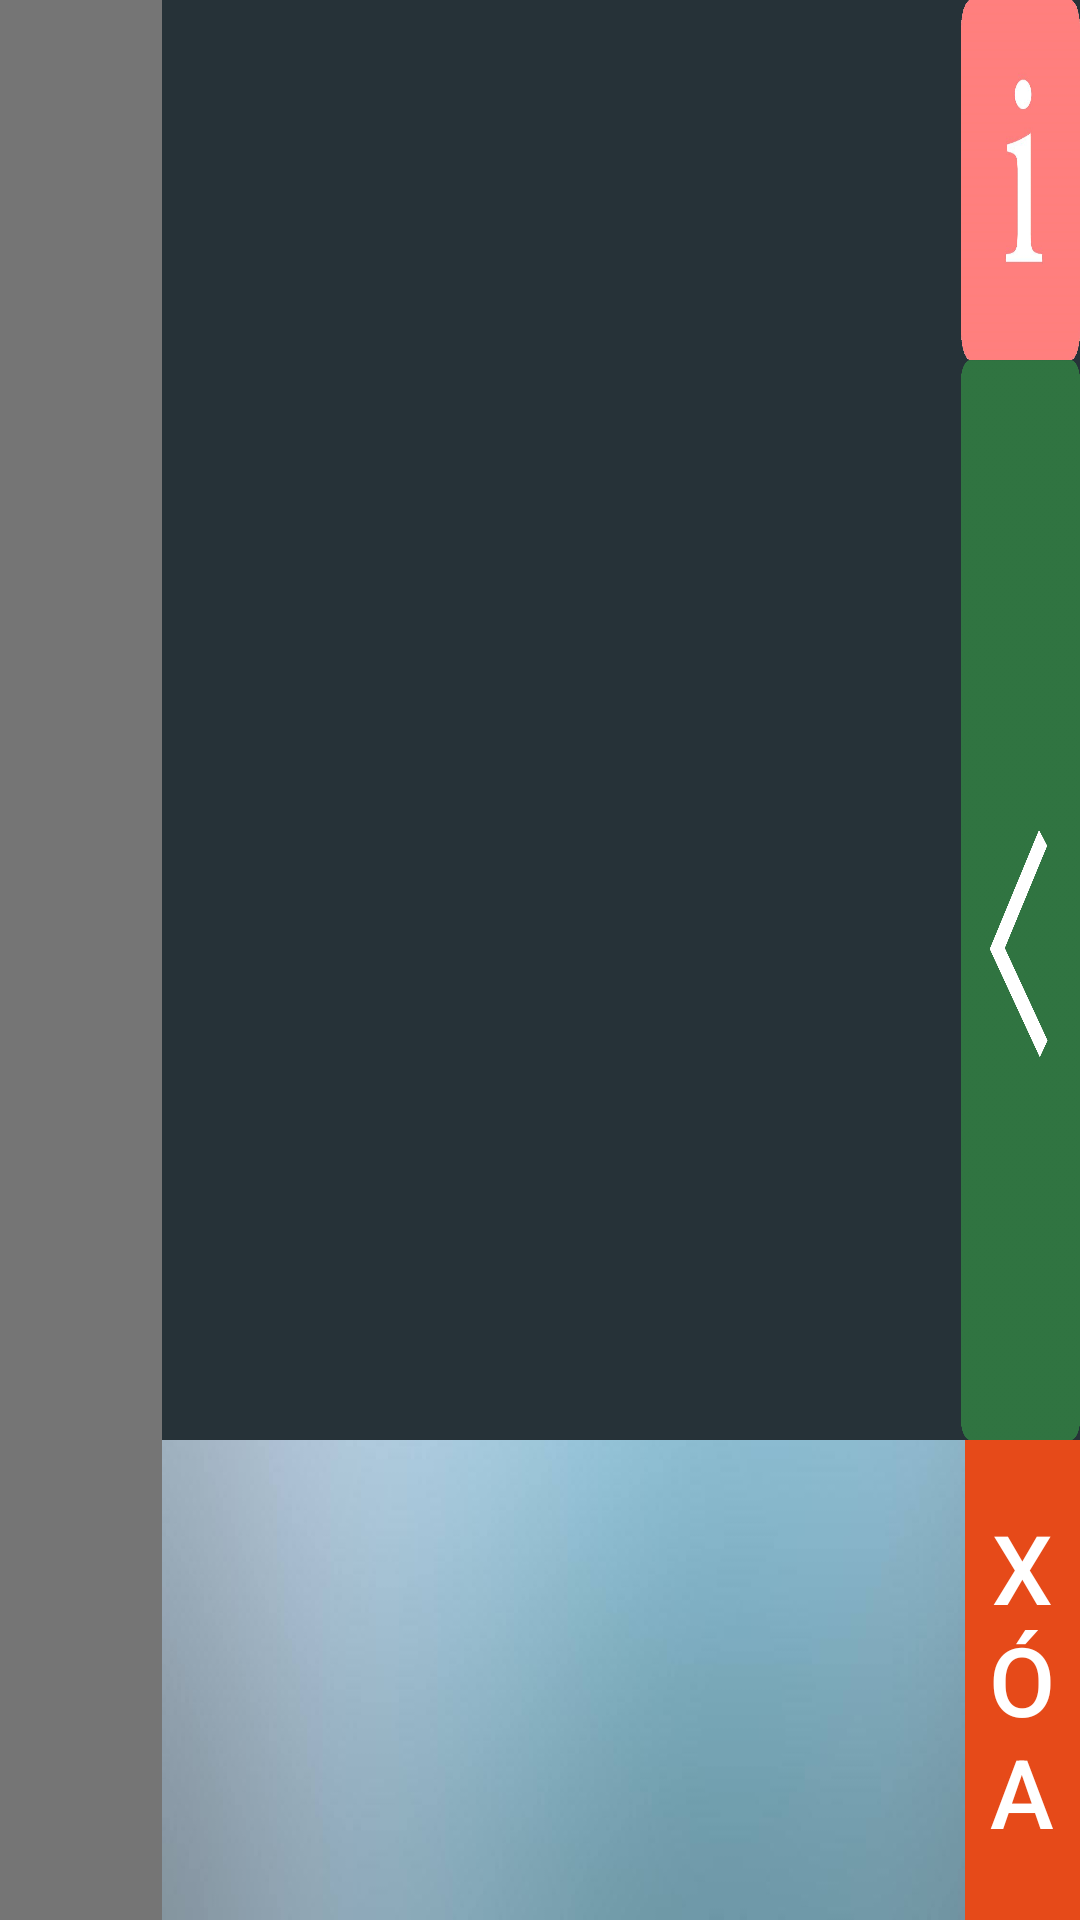

Icon click points for this 1080px x 1920px phone screenshot, format [x,y]:
about: [1020,180]
